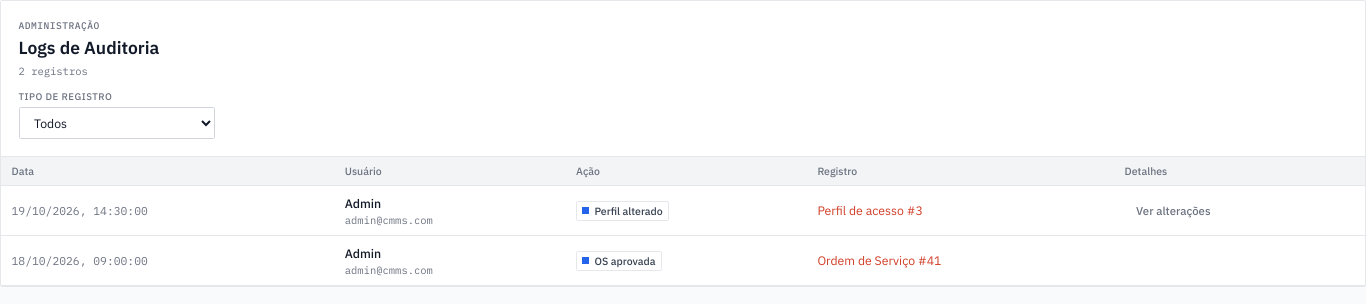
Test: AuditLogPage › deve refazer a busca ao filtrar por tipo de registro
The image size is (1366, 304).
Expected: the text "Perfil alterado" is shown, [576,201,669,221]
Select "Ordem de Serviço" in the dropdown labelled "Tipo de registro": (116, 123) [18,107,214,139]
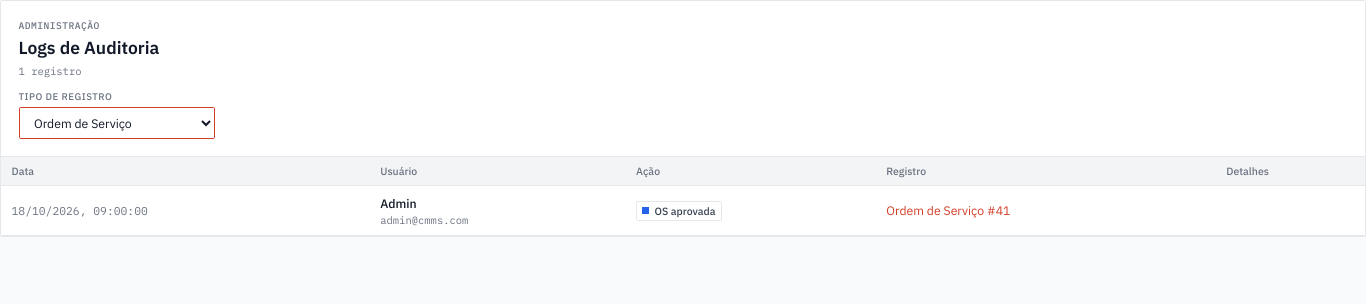
Expected: the text "OS aprovada" is shown, [636,201,722,221]
Expected: the text "1 registro" is shown, [18,64,82,78]
Expected: the text "Perfil alterado" is gone
